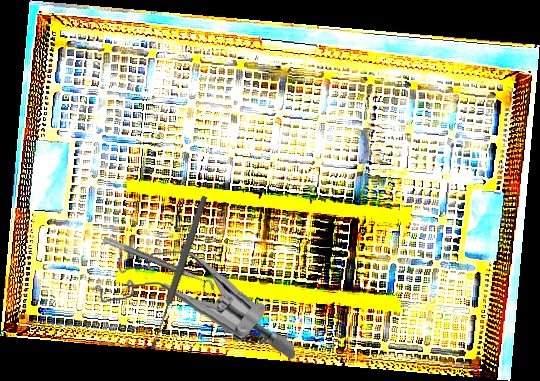Fixation Ring: (98, 235, 217, 299)
Speculum: (92, 240, 295, 371)
Surgical Spoon: (148, 194, 209, 351)
